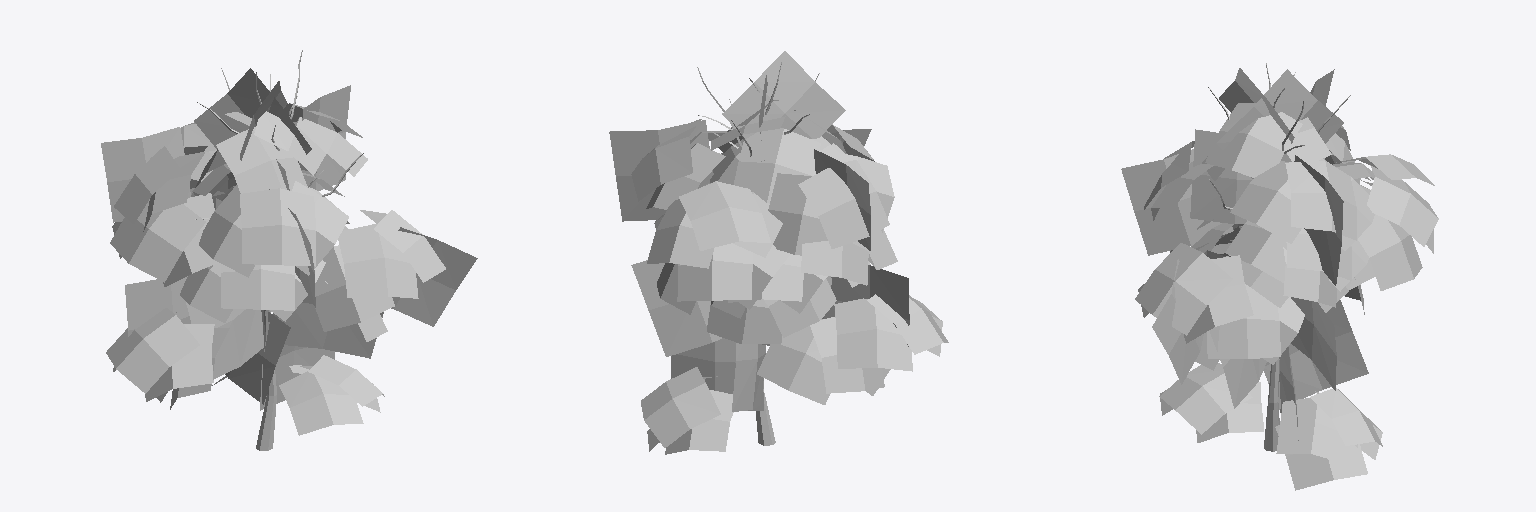
File: tree3a_lod0.obj
3 renders of one model, left to right at view 1: azimuth 30°, elevation 25°; view 2: azimuth 150°, elevation 25°; view 3: azimuth 270°, elevation 25°, orthographic.
Visible parts, largest first — view 1: leaves 0.0 0.[number redacted] 0.0 0 0 0 0.[number redacted] 0.[number redacted], bark -0.[number redacted] -0.[number redacted] -0.[number redacted]; view 2: leaves 0.0 0.[number redacted] 0.0 0 0 0 0.[number redacted] 0.[number redacted], bark -0.[number redacted] -0.[number redacted] -0.[number redacted]; view 3: leaves 0.0 0.[number redacted] 0.0 0 0 0 0.[number redacted] 0.[number redacted], bark -0.[number redacted] -0.[number redacted] -0.[number redacted].
Part boxes in pixels (left/top/right/bottom): leaves 0.0 0.[number redacted] 0.0 0 0 0 0.[number redacted] 0.[number redacted]: left=101, top=68, right=477, bottom=435; bark -0.[number redacted] -0.[number redacted] -0.[number redacted]: left=195, top=50, right=363, bottom=450; leaves 0.0 0.[number redacted] 0.0 0 0 0 0.[number redacted] 0.[number redacted]: left=609, top=51, right=948, bottom=454; bark -0.[number redacted] -0.[number redacted] -0.[number redacted]: left=697, top=62, right=819, bottom=445; leaves 0.0 0.[number redacted] 0.0 0 0 0 0.[number redacted] 0.[number redacted]: left=1121, top=68, right=1438, bottom=490; bark -0.[number redacted] -0.[number redacted] -0.[number redacted]: left=1208, top=63, right=1350, bottom=451.
Size of the model in its own units: 0.8684 by 1 by 0.7573.